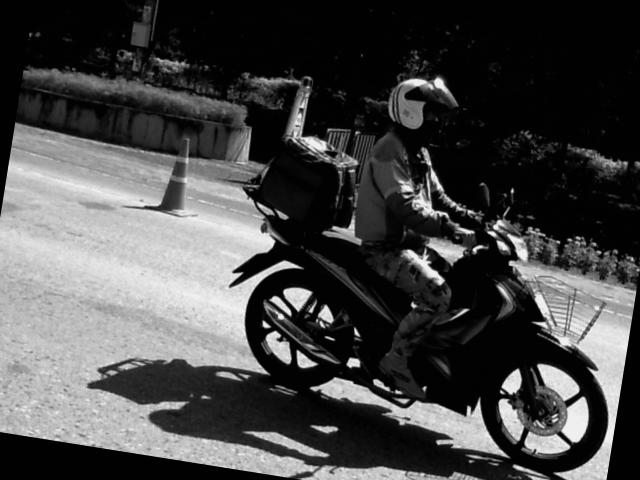helmet: (388, 74, 457, 139)
motor: (230, 178, 606, 471)
person: (354, 78, 478, 398)
